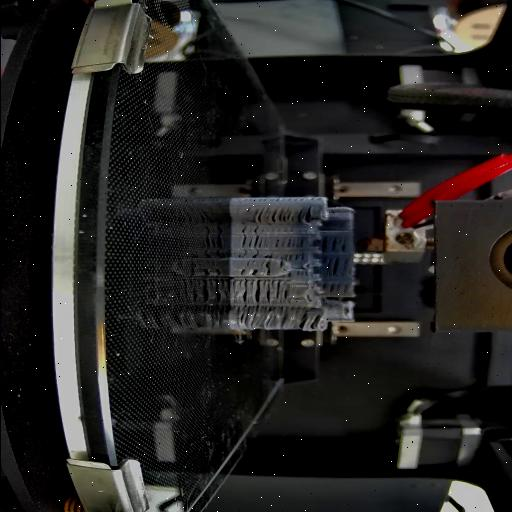cracks: (237, 305, 283, 330), (251, 206, 314, 224), (234, 280, 270, 304), (296, 310, 320, 330), (320, 235, 346, 253), (324, 256, 346, 276), (320, 280, 348, 294), (241, 235, 266, 248), (274, 280, 289, 301), (275, 238, 303, 248), (239, 249, 271, 257), (284, 252, 308, 262), (262, 258, 275, 276), (284, 270, 310, 278), (237, 226, 261, 234), (235, 269, 257, 275), (275, 260, 285, 269)
